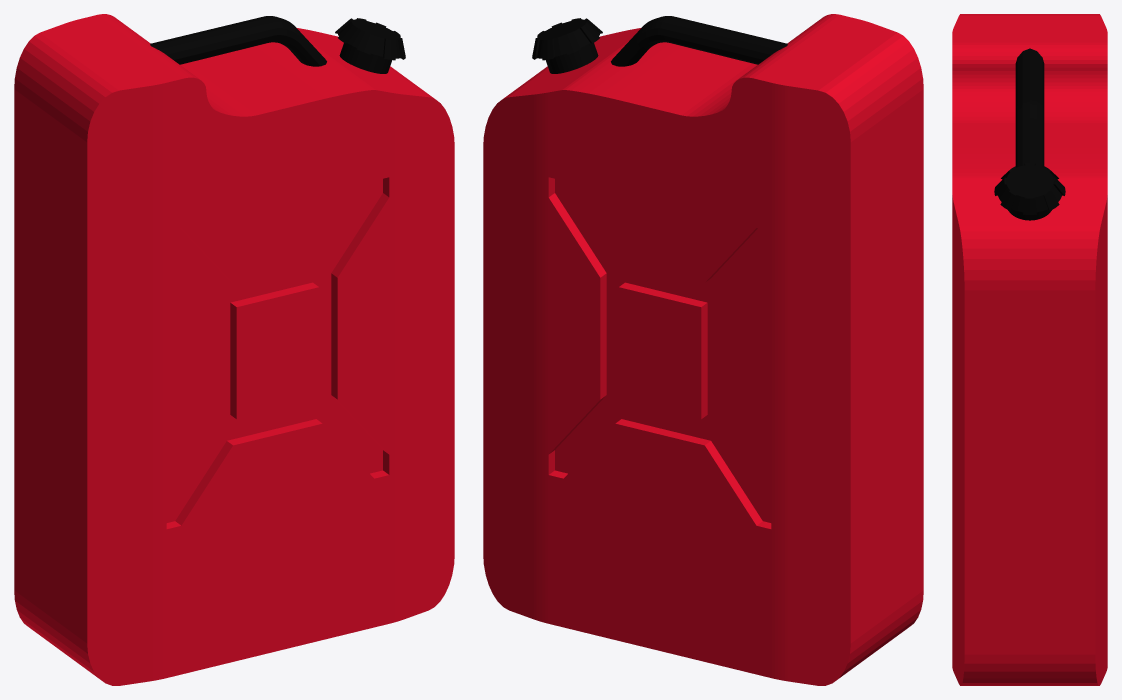
The model's file is jerry_can.glb.
The picture shows the model from 3 angles, left to right: view 1: azimuth 30°, elevation 25°; view 2: azimuth 150°, elevation 25°; view 3: azimuth 270°, elevation 25°; orthographic projection. The views are drawn at different scales.
Parts seen in each view (by area): view 1: Cube, Cube.002, Cylinder; view 2: Cube, Cube.002, Cylinder; view 3: Cube, Cube.002, Cylinder.
Part boxes in pixels (x1,y1,x2,y2): Cube: (14, 14, 454, 685); Cube.002: (150, 16, 326, 66); Cylinder: (335, 18, 405, 73); Cube: (483, 14, 923, 685); Cube.002: (611, 16, 787, 66); Cylinder: (532, 18, 602, 73); Cube: (952, 14, 1107, 685); Cube.002: (1015, 48, 1044, 167); Cylinder: (994, 163, 1065, 220).
Size of the model in its own units: 2.84 by 4.4 by 1.16.
